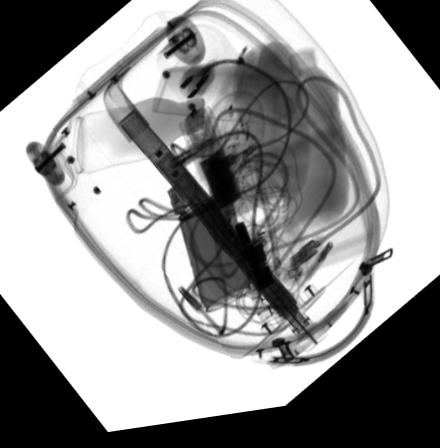Baton: (181, 113, 294, 330)
